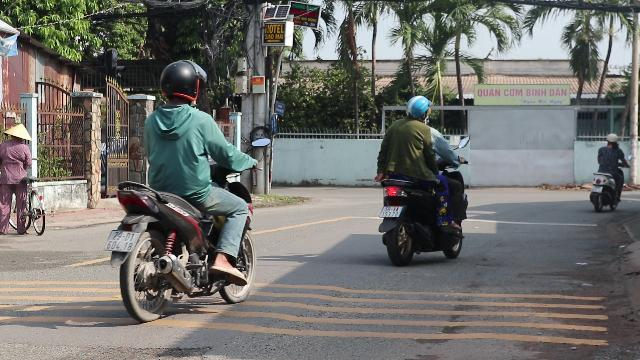helmet: (156, 59, 206, 107), (404, 96, 431, 122)
licenseplate: (105, 231, 141, 253), (380, 207, 402, 218)
motorcyclist: (103, 60, 261, 322), (370, 94, 470, 266)
